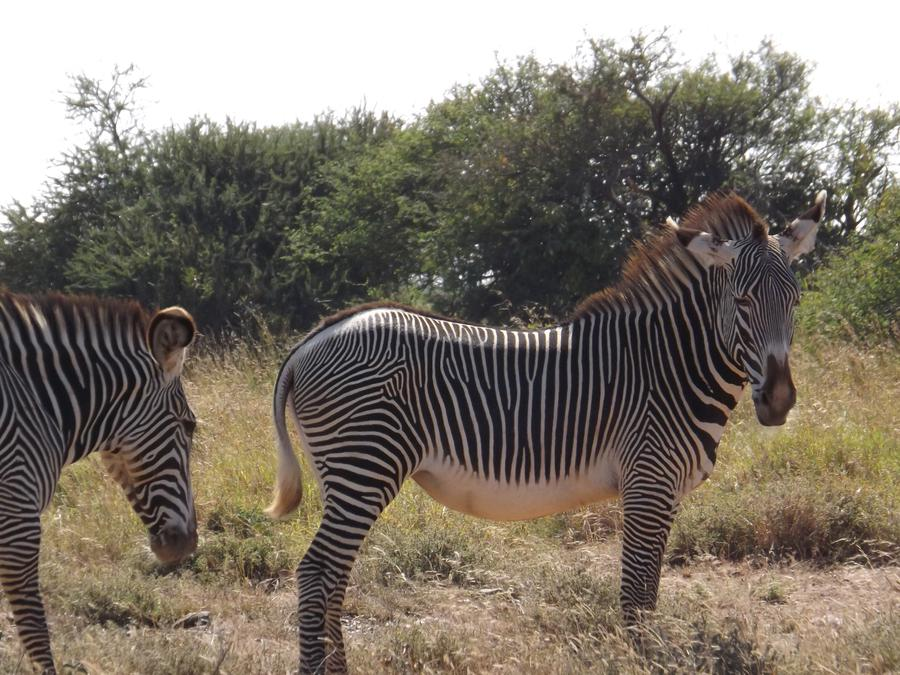zebra_grevys: (267, 282, 699, 507)
